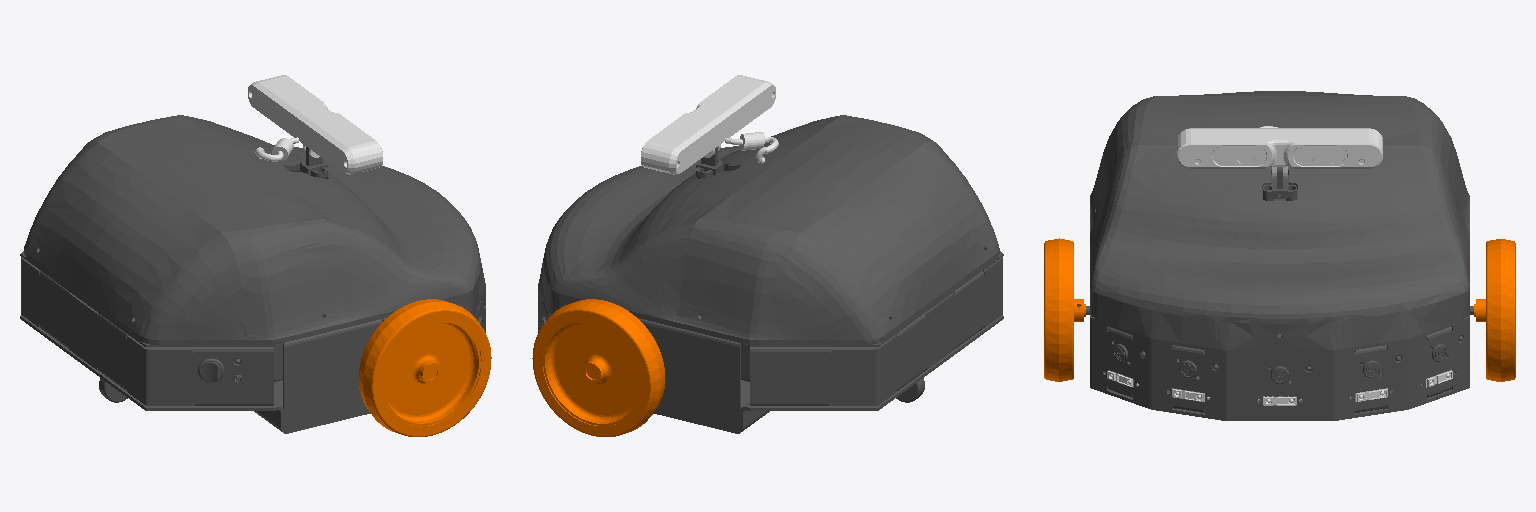
robot.urdf — minilab_equiped:
<?xml version="1.0" ?>

<robot name="minilab_equiped">

	<link name="base_footprint"/>

	<joint name="base_footprint" type="fixed">
		<origin rpy="0 0 0" xyz="-0.129 0 -0.045"/>
		<parent link="base_footprint"/>
		<child link="base_link"/>
	</joint>

	<link name="base_link">
		<inertial>
			<origin xyz="0.067148 0.00016105 0.057151" rpy="0 0 0" />
			<mass value="4" />
			<inertia ixx="0.010015" ixy="4.6841E-05" ixz="-0.00049346" iyy="0.015492" iyz="-2.303E-05" izz="0.012035" />
		</inertial>
		<visual>
			<origin xyz="0 0 0" rpy="0 0 0" />
			<geometry>
				<mesh filename="package://minilab_model/meshes/equiped/base_link.STL" />
			</geometry>
			<material name="Grey">
				<color rgba="0.4 0.4 0.4 1" />
			</material>
		</visual>
		<collision>
			<origin xyz="0.08 0 0.04" rpy="0 0 0" />
			<geometry>
	            <cylinder length="0.12" radius="0.185"/>
	        </geometry>
		</collision>
	</link>

	<link name="left_wheel">
		<inertial>
			<origin xyz="-0.023439 -1.708E-06 2.8975E-06" rpy="0 0 0" />
			<mass value="0.1569" />
			<inertia ixx="6.0465E-11" ixy="2.3846E-09" ixz="-4.0453E-09" iyy="3.6473E-07" iyz="2.6451E-11" izz="3.647E-07" />
		</inertial>
		<visual>
			<origin	xyz="0 0 0"	rpy="0 0 0" />
			<geometry>
				<mesh filename="package://minilab_model/meshes/equiped/left_wheel.STL" />
			</geometry>
			<material name="Orange">
				<color rgba="1 0.5 0 1" />
			</material>
		</visual>
		<collision>
			<origin xyz="0 0 0" rpy="0 0 0" />
			<geometry>
				<mesh filename="package://minilab_model/meshes/equiped/left_wheel.STL" />
			</geometry>
		</collision>
	</link>

	<joint name="base_link_left_wheel_joint" type="fixed">
		<origin xyz="0.129 0.168 0.045" rpy="-2.6225 0 -1.5708" />
		<parent link="base_link" />
		<child link="left_wheel" />
		<axis xyz="0 1 0" />
	</joint>

	<link name="right_wheel">
		<inertial>
			<origin xyz="-0.023439 -3.3635E-06 -1.1139E-10" rpy="0 0 0" />
			<mass value="0.1569" />
			<inertia ixx="6.0465E-11" ixy="4.6958E-09" ixz="1.5551E-13" iyy="3.6468E-07" iyz="-2.0024E-15" izz="3.6475E-07" />
		</inertial>
		<visual>
			<origin xyz="0 0 0" rpy="0 0 0" />
			<geometry>
				<mesh filename="package://minilab_model/meshes/equiped/right_wheel.STL" />
			</geometry>
			<material name="Orange">
				<color rgba="1 0.5 0 1" />
			</material>
		</visual>
		<collision>
			<origin xyz="0 0 0" rpy="0 0 0" />
			<geometry>
				<mesh filename="package://minilab_model/meshes/equiped/right_wheel.STL" />
			</geometry>
		</collision>
	</link>

	<joint name="base_link_right_wheel_joint" type="fixed">
		<origin	xyz="0.129 -0.168 0.045" rpy="2.2726 0 1.5707" />
		<parent link="base_link" />
		<child link="right_wheel" />
		<axis xyz="0 1 0" />
		<!--limit effort="100" velocity="100" lower="0" upper="0"/-->
	</joint>

	<link name="camera_link">
		<visual>
			<origin xyz="0 0 0" rpy="0 0 0" />
			<geometry>
				<mesh filename="package://minilab_model/meshes/equiped/camera_link.STL" />
			</geometry>
			<material name="White">
				<color rgba="0.9 0.9 0.9 1" />
			</material>
		</visual>
		<collision>
			<origin xyz="-0.015 0.0 0.0" rpy="0 0 0" />
			<geometry>
	            <box size="0.04 0.17 0.04"/>
	        </geometry>
		</collision>
		
	</link>
	<joint name="base_link_camera_joint" type="fixed">
		<origin xyz="0.147 0.0067321 0.201" rpy="7.7548E-17 -1.3878E-16 8.4974E-33" />
		<parent link="base_link" />
		<child link="camera_link" />
		<axis xyz="0 0 0" />
	</joint>


	<link name="hokuyo_link">
		<visual>
			<origin xyz="0 0 0" rpy="0 0 0" />
			<geometry>
				<mesh filename="package://minilab_model/meshes/equiped/hokuyo_link.STL" />
			</geometry>
			<material name="White">
				<color rgba="0.9 0.9 0.9 1" />
			</material>
		</visual>
	</link>
	<joint name="base_link_hokuyo_joint" type="fixed">
		<origin xyz="0.21192 0 0.126" rpy="0 0 0" />
		<parent link="base_link" />
		<child link="hokuyo_link" />
		<axis xyz="0 0 1" />
	</joint>


	<link name="ir1">
		<visual>
			<origin xyz="0 0 0" rpy="0 0 0" />
			<geometry>
				<mesh filename="package://minilab_model/meshes/equiped/ir1.STL" />
			</geometry>
			<material name="White">
				<color rgba="0.9 0.9 0.9 1" />
			</material>
		</visual>
	</link>
	<joint name="base_link_ir1_joint" type="fixed">
		<origin xyz="0.21342 -0.1401 0.019477" rpy="-2.0594E-13 -3.9358E-17 -0.69813" />
		<parent link="base_link" />
		<child link="ir1" />
		<axis xyz="0.64279 -0.76604 0" />
	</joint>


	<link name="ir2">
		<visual>
			<origin xyz="0 0 0" rpy="0 0 0" />
			<geometry>
				<mesh filename="package://minilab_model/meshes/equiped/ir2.STL" />
			</geometry>
			<material name="White">
				<color rgba="0.9 0.9 0.9 1" />
			</material>
		</visual>
	</link>
	<joint name="base_link_ir2_joint" type="fixed">
		<origin xyz="0.24928 -0.082302 0.019477" rpy="-2.0595E-13 -2.0942E-17 -0.34907" />
		<parent link="base_link" />
		<child link="ir2" />
		<axis xyz="0.34202 -0.93969 0" />
	</joint>


	<link name="ir3">
		<visual>
			<origin xyz="0 0 0" rpy="0 0 0" />
			<geometry>
				<mesh filename="package://minilab_model/meshes/equiped/ir3.STL" />
			</geometry>
			<material name="White">
				<color rgba="0.9 0.9 0.9 1" />
			</material>
		</visual>
	</link>
	<joint name="base_link_ir3_joint" type="fixed">
		<origin xyz="0.2605 -0.00225 0.019477" rpy="-2.0595E-13 -8.9671E-26 -4.3656E-13" />
		<parent link="base_link" />
		<child link="ir3" />
		<axis xyz="0 -1 0" />
	</joint>


	<link name="ir4">
		<visual>
			<origin xyz="0 0 0" rpy="0 0 0" />
			<geometry>
				<mesh filename="package://minilab_model/meshes/equiped/ir4.STL" />
			</geometry>
			<material name="White">
				<color rgba="0.9 0.9 0.9 1" />
			</material>
		</visual>
	</link>
	<joint name="base_link_ir4_joint" type="fixed">
		<origin xyz="0.24941 0.07756 0.019477" rpy="-2.0595E-13 2.0942E-17 0.34907" />
		<parent link="base_link" />
		<child link="ir4" />
		<axis xyz="-0.34202 -0.93969 0" />
	</joint>
	<link name="ir5">
		<visual>
			<origin xyz="0 0 0" rpy="0 0 0" />
			<geometry>
				<mesh filename="package://minilab_model/meshes/equiped/ir5.STL" />
			</geometry>
			<material name="White">
				<color rgba="0.9 0.9 0.9 1" />
			</material>
		</visual>
	</link>
	<joint name="base_link_ir5_joint" type="fixed">
		<origin xyz="0.21631 0.13666 0.019477" rpy="-2.0594E-13 3.9358E-17 0.69813" />
		<parent link="base_link" />
		<child link="ir5" />
		<axis xyz="-0.64279 -0.76604 0" />
	</joint>

	<gazebo reference="base_link">
		<mu1>0.5</mu1>
		<mu2>0.5</mu2>
		<material>Gazebo/Grey</material>
	</gazebo>
	<gazebo reference="left_wheel">
		<mu1>0.8</mu1>
		<mu2>0.8</mu2>
		<material>Gazebo/Orange</material>
	</gazebo>
	
	<gazebo reference="right_wheel">
		<mu1>0.8</mu1>
		<mu2>0.8</mu2>
		<material>Gazebo/Orange</material>
	</gazebo>

	<gazebo>
		<plugin name='object_controller' filename='libgazebo_ros_planar_move.so'>
			<commandTopic>cmd_vel</commandTopic>
			<odometryTopic>odom</odometryTopic>
			<odometryFrame>odom</odometryFrame>
			<odometryRate>10.0</odometryRate>
			<robotBaseFrame>base_footprint</robotBaseFrame>
		</plugin>
	</gazebo>

	<gazebo reference="hokuyo_link">
		<sensor type="ray" name="laser">
			<pose>0 0 0 0 0 0 </pose>
			<visualize>True</visualize>
			<update_rate>40</update_rate>
			<ray>
				<scan>
					<horizontal>
						<samples>720</samples>
						<resolution>1</resolution> 
						<min_angle>-2.0</min_angle>
						<max_angle>2.0</max_angle>
					</horizontal>
				</scan>
				<range>
					<min>0.10</min>
					<max>15</max>
					<resolution>0.01</resolution>
				</range>
				<noise>
					<type>gaussian</type>
					<mean>0.0</mean>
					<stddev>0.01</stddev>
				</noise>
			</ray>

			<plugin name="ros_hokuyo_controller" filename="libgazebo_ros_laser.so">
				<topicName>scan</topicName>
				<frameName>hokuyo_link</frameName>
			</plugin>
		</sensor>
	</gazebo>

	<gazebo reference="camera_link">
		<sensor type="depth" name="camera_asus">

			<always_on>1</always_on>
			<visualize>true</visualize>
			<camera>
				<horizontal_fov>1.047</horizontal_fov>
				<image>
					<width>640</width>
					<height>480</height>
					<format>R8G8B8</format>
				</image>
				<depth_camera>

				</depth_camera>
				<clip>
					<near>0.1</near>
					<far>100</far>
				</clip>
			</camera>
			<plugin name="camera_controller" filename="libgazebo_ros_openni_kinect.so">
				<alwaysOn>true</alwaysOn>
				<updateRate>10.0</updateRate>
				<cameraName>camera</cameraName>
				<frameName>camera_link</frameName>
				<imageTopicName>rgb/image_raw</imageTopicName>
				<depthImageTopicName>depth/image_raw</depthImageTopicName>
				<pointCloudTopicName>depth/points</pointCloudTopicName>
				<cameraInfoTopicName>rgb/camera_info</cameraInfoTopicName>
				<depthImageCameraInfoTopicName>depth/camera_info</depthImageCameraInfoTopicName>
				<pointCloudCutoff>0.4</pointCloudCutoff>
				<hackBaseline>0.07</hackBaseline>
				<distortionK1>0.0</distortionK1>
				<distortionK2>0.0</distortionK2>
				<distortionK3>0.0</distortionK3>
				<distortionT1>0.0</distortionT1>
				<distortionT2>0.0</distortionT2>
				<CxPrime>0.0</CxPrime>
				<Cx>0.0</Cx>
				<Cy>0.0</Cy>
				<focalLength>0.0</focalLength>
			</plugin>
		</sensor>
	</gazebo>

	<gazebo reference="ir1">
		<sensor type="ray" name="IR1">
			<pose>0 0 0 0.0 0.0 0.0</pose>
			<visualize>True</visualize>
			<update_rate>40</update_rate>
			<ray>
				<scan>
					<horizontal>
						<samples>10</samples>
						<resolution>1</resolution>
						<min_angle>-0.01</min_angle>
						<max_angle>0.01</max_angle>
					</horizontal>
				</scan>
				<range>
					<min>0.01</min>
					<max>0.6</max>
					<resolution>0.01</resolution>
				</range>
			</ray>
			<plugin name="ros_IR_controller" filename="libgazebo_ros_laser.so">
				<topicName>IR1</topicName>
				<frameName>ir1</frameName>
			</plugin>
		</sensor>
	</gazebo>

	<gazebo reference="ir2">
		<sensor type="ray" name="IR2">
			<pose>0 0 0 0.0 0.0 0.0</pose>
			<visualize>True</visualize>
			<update_rate>40</update_rate>
			<ray>
				<scan>
					<horizontal>
						<samples>10</samples>
						<resolution>1</resolution>
						<min_angle>-0.01</min_angle>
						<max_angle>0.01</max_angle>
					</horizontal>
				</scan>
				<range>
					<min>0.01</min>
					<max>0.6</max>
					<resolution>0.01</resolution>
				</range>
			</ray>
			<plugin name="ros_IR_controller" filename="libgazebo_ros_laser.so">
				<topicName>IR2</topicName>
				<frameName>ir2</frameName>
			</plugin>
		</sensor>
	</gazebo>

	<gazebo reference="ir3">
		<sensor type="ray" name="IR3">
			<pose>0 0 0 0.0 0.0 0.0</pose>
			<visualize>True</visualize>
			<update_rate>40</update_rate>
			<ray>
				<scan>
					<horizontal>
						<samples>10</samples>
						<resolution>1</resolution>
						<min_angle>-0.01</min_angle>
						<max_angle>0.01</max_angle>
					</horizontal>
				</scan>
				<range>
					<min>0.01</min>
					<max>0.6</max>
					<resolution>0.01</resolution>
				</range>
			</ray>
			<plugin name="ros_IR_controller" filename="libgazebo_ros_laser.so">
				<topicName>IR3</topicName>
				<frameName>ir3</frameName>
			</plugin>
		</sensor>
	</gazebo>

	<gazebo reference="ir4">
		<sensor type="ray" name="IR4">
			<pose>0 0 0 0.0 0.0 0.0</pose>
			<visualize>True</visualize>
			<update_rate>40</update_rate>
			<ray>
				<scan>
					<horizontal>
						<samples>10</samples>
						<resolution>1</resolution>
						<min_angle>-0.01</min_angle>
						<max_angle>0.01</max_angle>
					</horizontal>
				</scan>
				<range>
					<min>0.01</min>
					<max>0.6</max>
					<resolution>0.01</resolution>
				</range>
			</ray>
			<plugin name="ros_IR_controller" filename="libgazebo_ros_laser.so">
				<topicName>IR4</topicName>
				<frameName>ir4</frameName>
			</plugin>
		</sensor>
	</gazebo>

	<gazebo reference="ir5">
		<sensor type="ray" name="IR5">
			<pose>0 0 0 0.0 0.0 0.0</pose>
			<visualize>True</visualize>
			<update_rate>40</update_rate>
			<ray>
				<scan>
					<horizontal>
						<samples>10</samples>
						<resolution>1</resolution>
						<min_angle>-0.01</min_angle>
						<max_angle>0.01</max_angle>
					</horizontal>
				</scan>
				<range>
					<min>0.01</min>
					<max>0.6</max>
					<resolution>0.01</resolution>
				</range>
			</ray>
			<plugin name="ros_IR_controller" filename="libgazebo_ros_laser.so">
				<topicName>IR5</topicName>
				<frameName>ir5</frameName>
			</plugin>
		</sensor>
	</gazebo>

</robot>

--- Facts derived from the render (not from the file) ---
The picture shows the robot from 3 angles, left to right: view 1: azimuth 30°, elevation 25°; view 2: azimuth 150°, elevation 25°; view 3: azimuth 270°, elevation 25°; orthographic projection.
Robot: minilab_equiped — 11 links, 10 joints (10 fixed); root link base_footprint; default pose: all joints at 0.
Links seen in each view (by area): view 1: base_link, right_wheel, camera_link; view 2: base_link, left_wheel, camera_link; view 3: base_link, camera_link, left_wheel, right_wheel.
Link boxes in pixels (bbox=[...]): base_link: bbox=[20, 115, 485, 433]; right_wheel: bbox=[359, 299, 491, 436]; camera_link: bbox=[248, 75, 382, 174]; base_link: bbox=[538, 115, 1003, 433]; left_wheel: bbox=[532, 299, 664, 436]; camera_link: bbox=[641, 75, 778, 174]; base_link: bbox=[1078, 91, 1473, 420]; camera_link: bbox=[1177, 126, 1382, 177]; left_wheel: bbox=[1474, 239, 1515, 381]; right_wheel: bbox=[1044, 238, 1085, 381].
Size in the robot's own frame: 0.366 by 0.4088 by 0.231 metres.
9 mesh visuals loaded from 10 distinct referenced files (9 binary STL); not drawn: 1 (reference not matched to a file when rendering).
